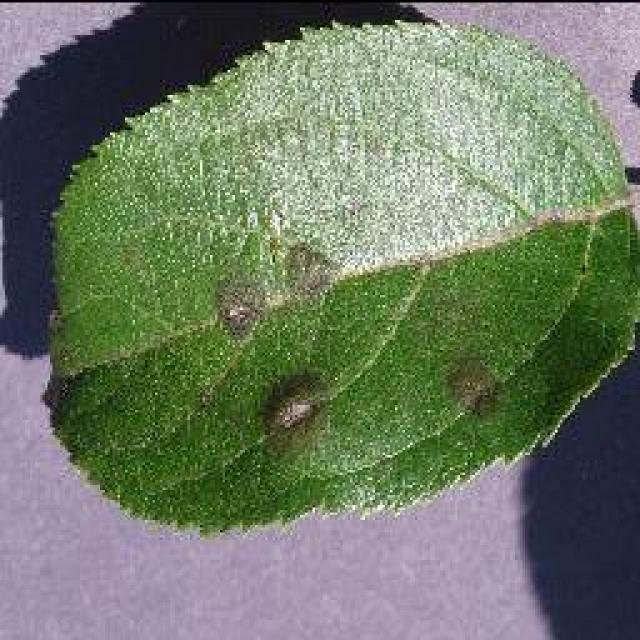Apple___Apple_scab: (36, 16, 638, 545)
